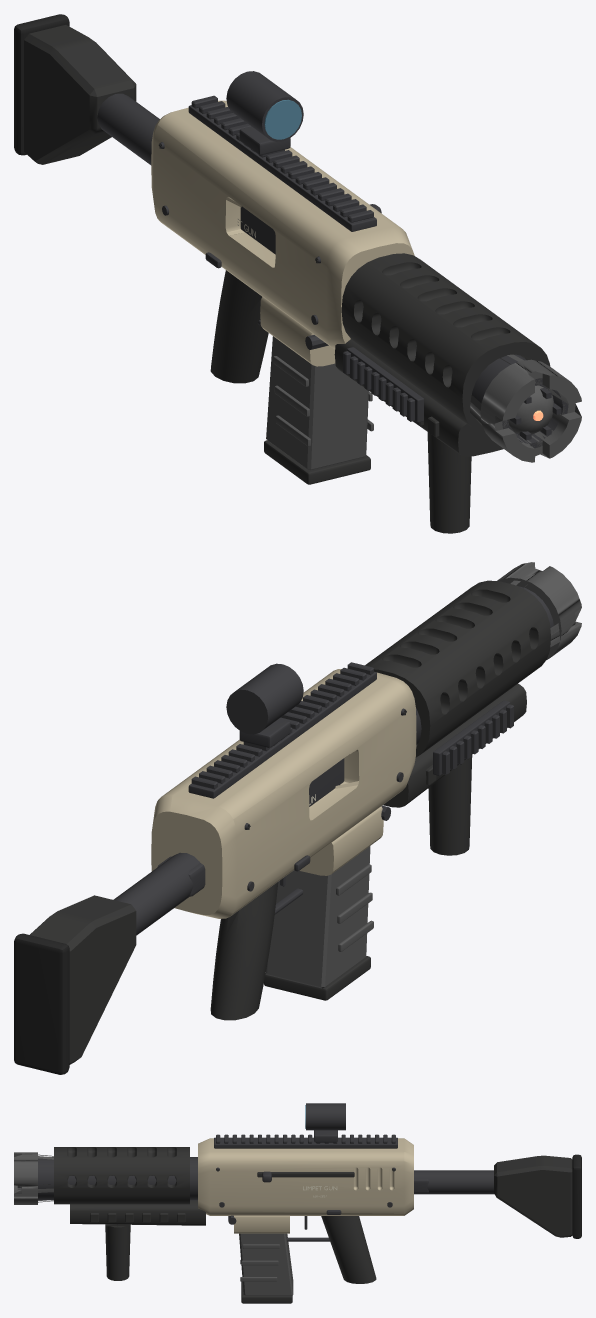
Rendered from limpetgun.glb.
3 views of the same model, one above another, from view 1: azimuth 30°, elevation 25°; view 2: azimuth 150°, elevation 25°; view 3: azimuth 270°, elevation 25° (orthographic). The views are drawn at different scales.
Visible parts, largest first — view 1: Body; view 2: Body; view 3: Body.
Boxes of the visible parts, <box> form: Body: <box>14,14,581,533</box>; Body: <box>14,562,581,1074</box>; Body: <box>14,1103,581,1303</box>.
Bounding box in the file's own units: 0.0925 × 0.263 × 0.71.
